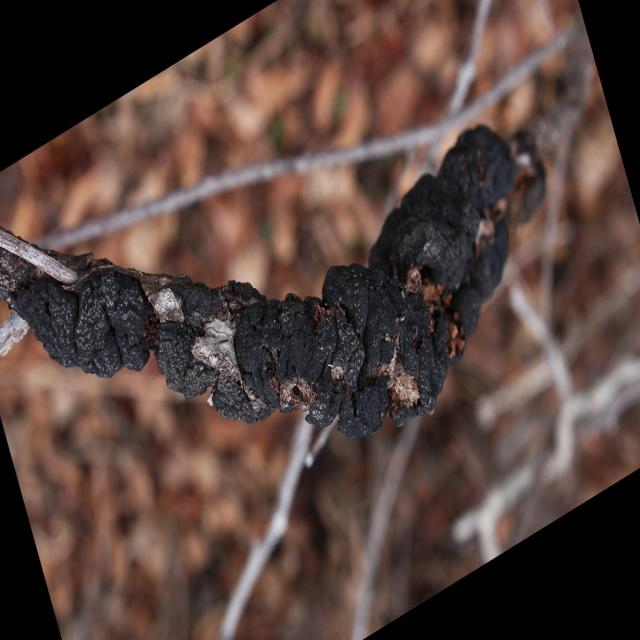Black_knot: (2, 121, 546, 439)
